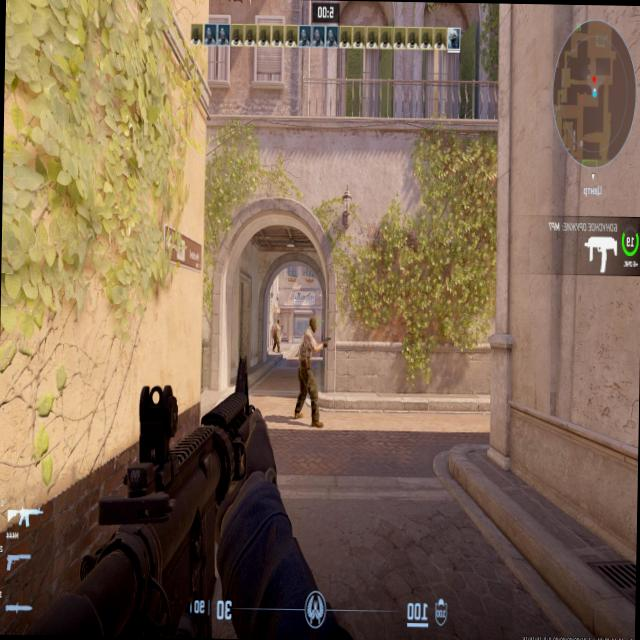T: (294, 320, 316, 417), (270, 319, 280, 352)
T_heat: (308, 321, 314, 333), (275, 319, 280, 326)
